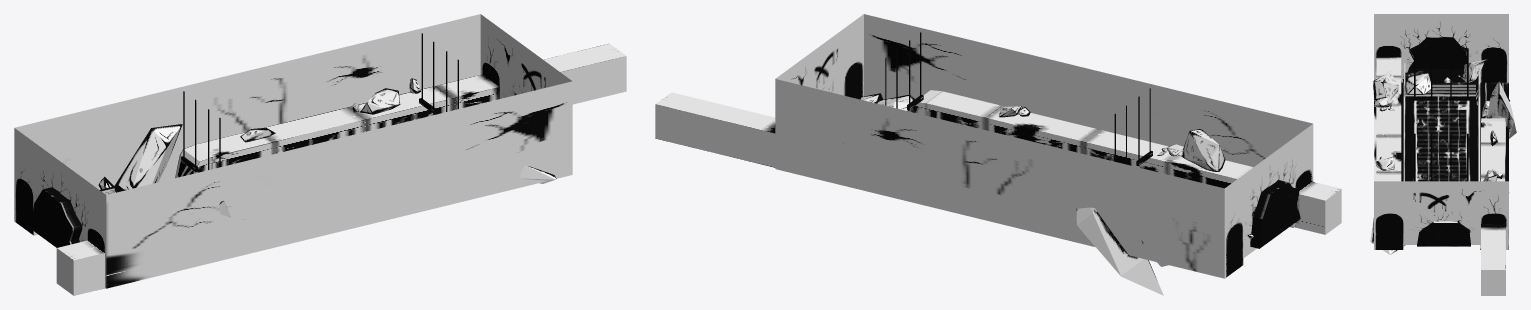
The model's file is metroescenario.fbx.
3 views of the same model, side by side, from view 1: azimuth 30°, elevation 25°; view 2: azimuth 150°, elevation 25°; view 3: azimuth 270°, elevation 25° (orthographic). The views are drawn at different scales.
Visible parts, largest first — view 1: Cube, Cube.002, Icosphere.016, Cube.001; view 2: Cube, Cube.001, Cube.002, Icosphere.016; view 3: Cube, Cube.002, Icosphere.016, Cube.001, sign4.002, sign4.003, sign4, sign4.001.
Part boxes in pixels (x1,y1,x2,y2): Cube: (14, 14, 572, 288); Cube.002: (175, 43, 626, 178); Icosphere.016: (98, 78, 556, 219); Cube.001: (56, 240, 105, 295); Cube: (775, 14, 1313, 278); Cube.001: (910, 90, 1341, 234); Cube.002: (655, 92, 775, 167); Icosphere.016: (842, 93, 1253, 295); Cube: (1374, 14, 1508, 249); Cube.002: (1481, 118, 1505, 295); Icosphere.016: (1370, 59, 1516, 254); Cube.001: (1376, 57, 1401, 181); sign4.002: (1412, 48, 1434, 100); sign4.003: (1448, 48, 1470, 100); sign4: (1450, 133, 1468, 181); sign4.001: (1414, 133, 1432, 181).
Size of the model in its own units: 16605 by 3906 by 4596.
